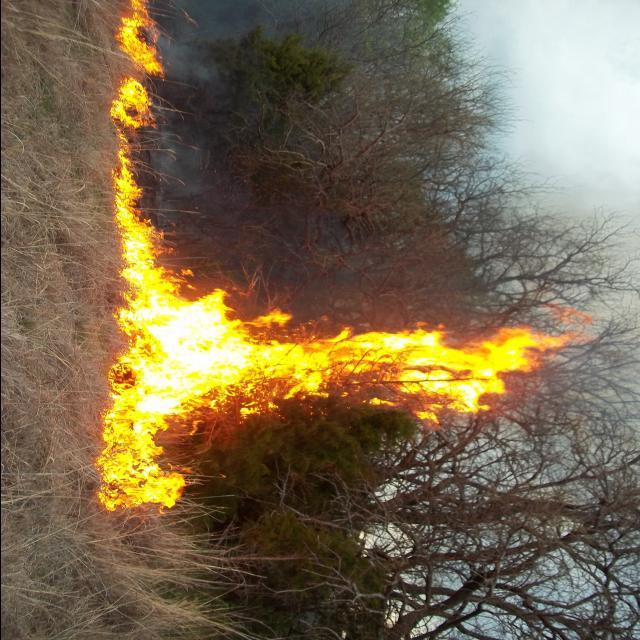Fire: (93, 8, 598, 516)
